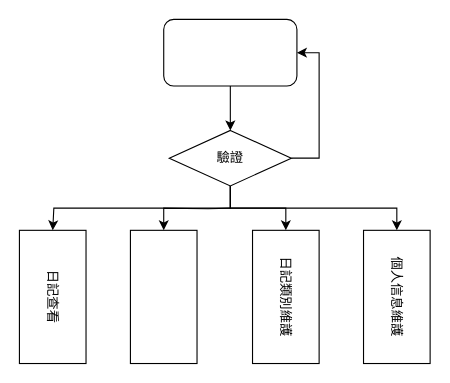
Image size: 450x383. Some labels were removed from this diagram. Here are the shapes that lost their labels. From the top down, the box of each, then its label:
(163, 18, 297, 86): 用戶驗證
(129, 229, 197, 364): 日記維護
